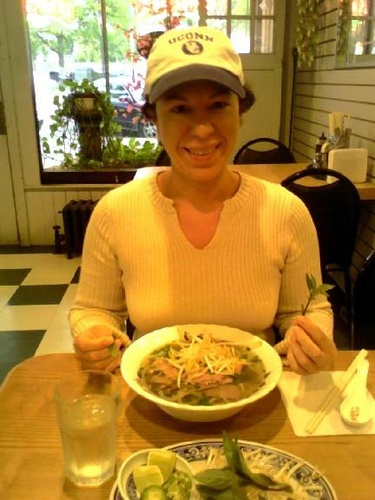head: (153, 49, 242, 189)
person: (62, 26, 340, 399)
